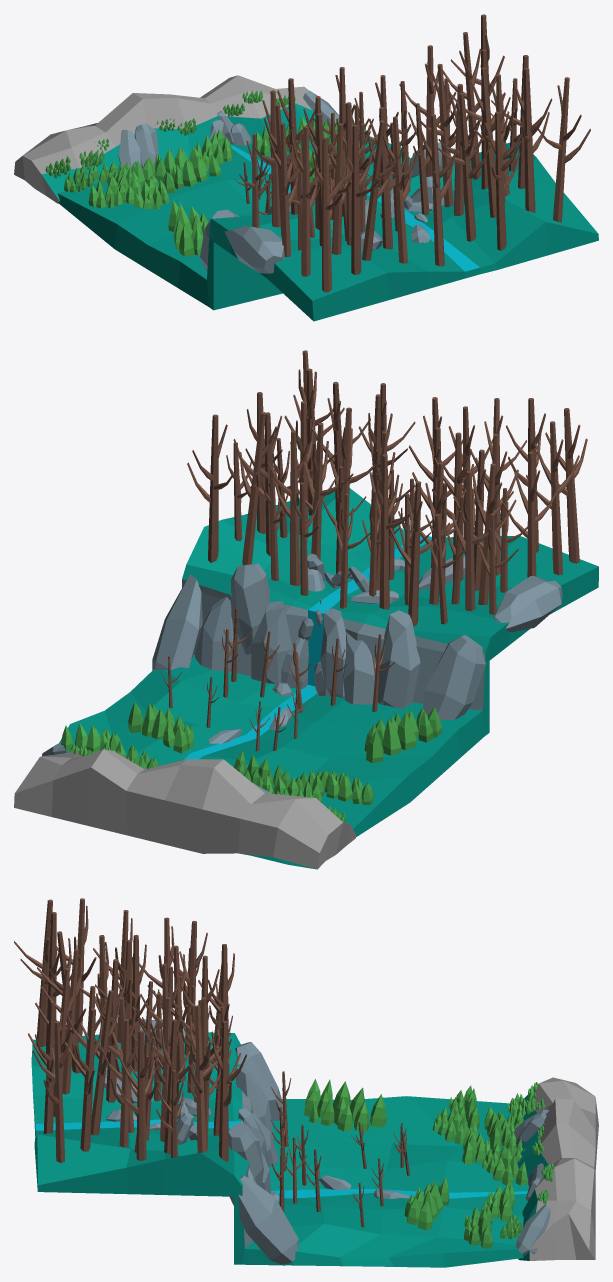
3 views of the same model, one above another, from view 1: azimuth 30°, elevation 25°; view 2: azimuth 150°, elevation 25°; view 3: azimuth 270°, elevation 25° (orthographic). The views are drawn at different scales.
Parts seen in each view (by area): view 1: group1448003141; view 2: group1448003141; view 3: group1448003141.
Boxes of the visible parts, <box> form: group1448003141: <box>14,14,598,321</box>; group1448003141: <box>14,350,598,869</box>; group1448003141: <box>14,898,598,1267</box>.
Bounding box in the file's own units: 4.04 × 3.16 × 6.46.
1 material, 1 textured.
